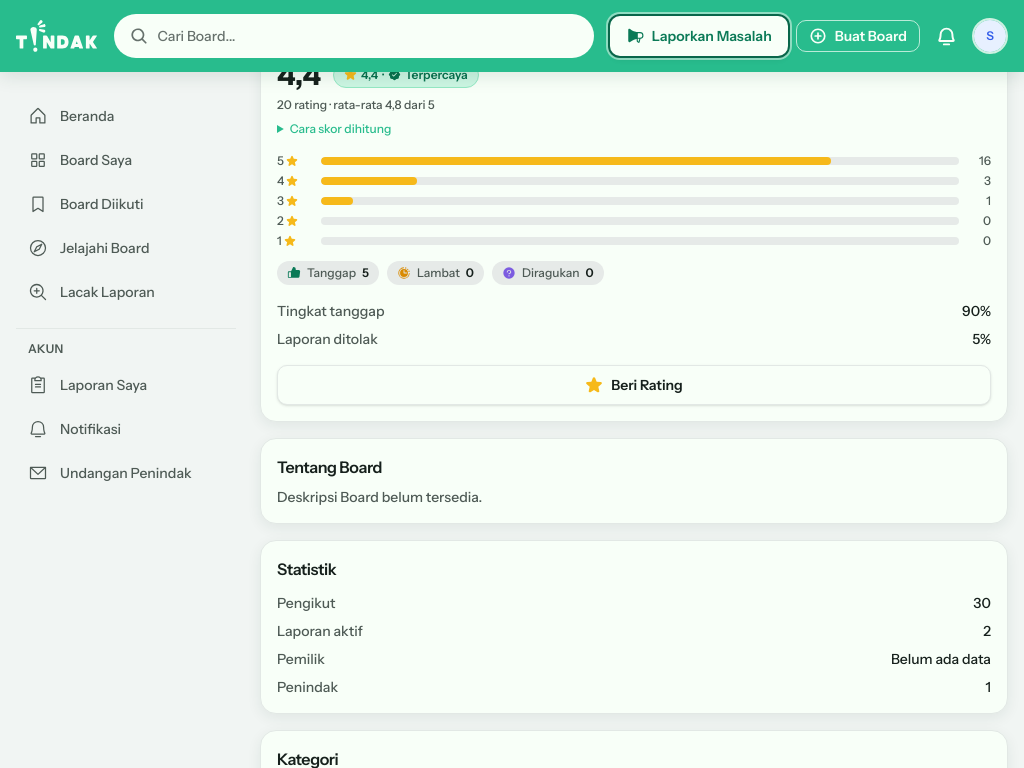
Test case: Modal rating › menampilkan alasan jika belum boleh memberi rating
(page scrolled)
Click the button "Beri Rating" at [634, 385], box [277,365,991,405]
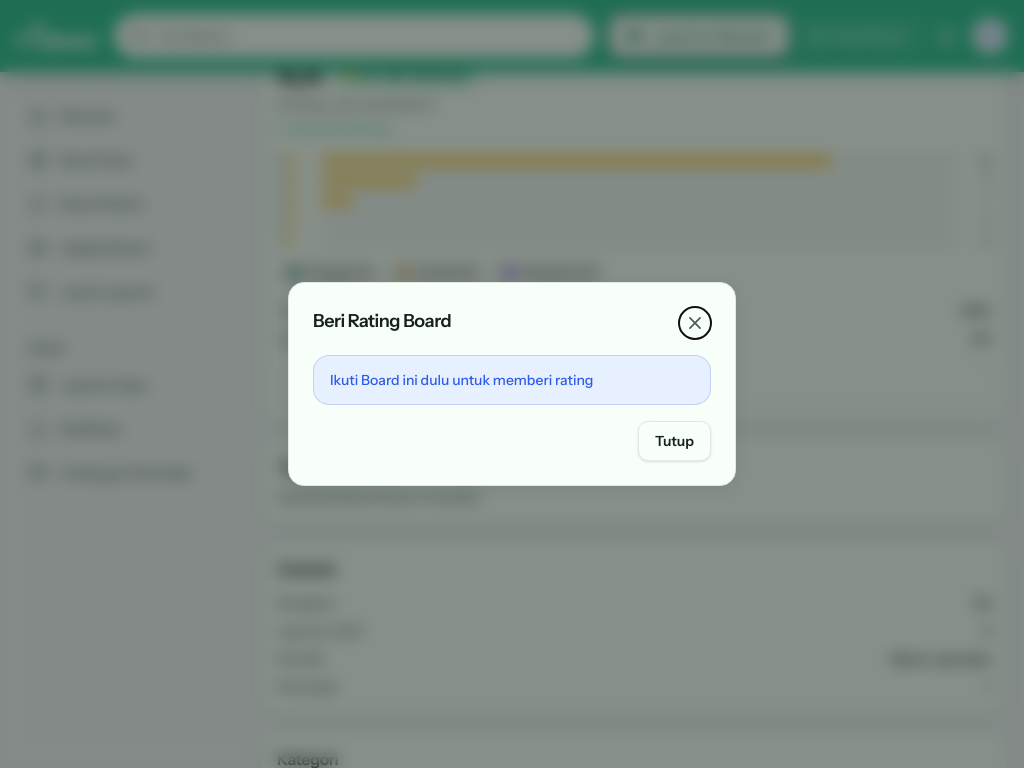
Expected: the text "Ikuti Board ini dulu untuk memberi rating" is shown, [313,355,711,405]
